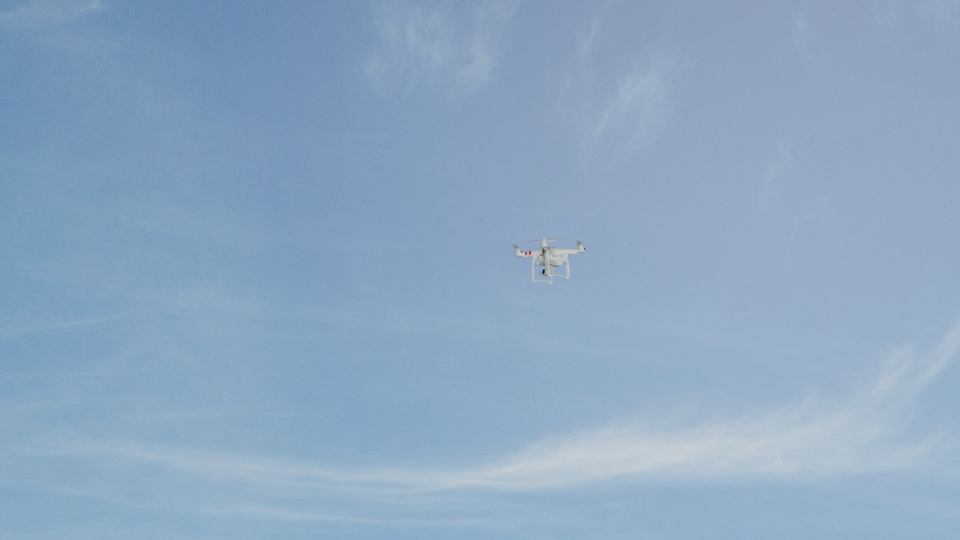drone: (512, 233, 587, 285)
